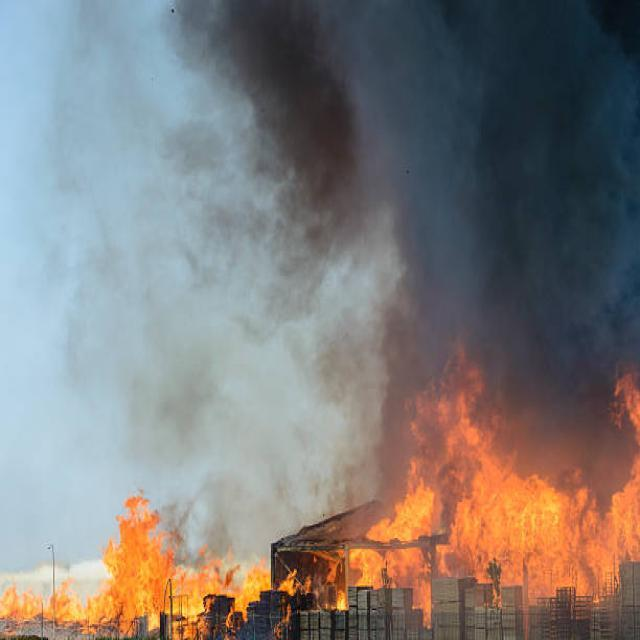Fire: (402, 351, 640, 612), (95, 507, 268, 638), (272, 529, 407, 626), (6, 583, 126, 640)
Smoke: (198, 1, 640, 407)
